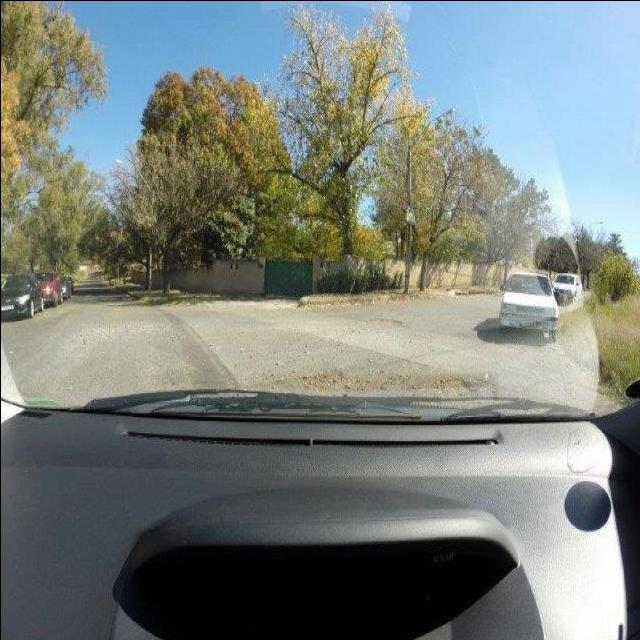lubang: (283, 354, 495, 396), (346, 307, 411, 336)
